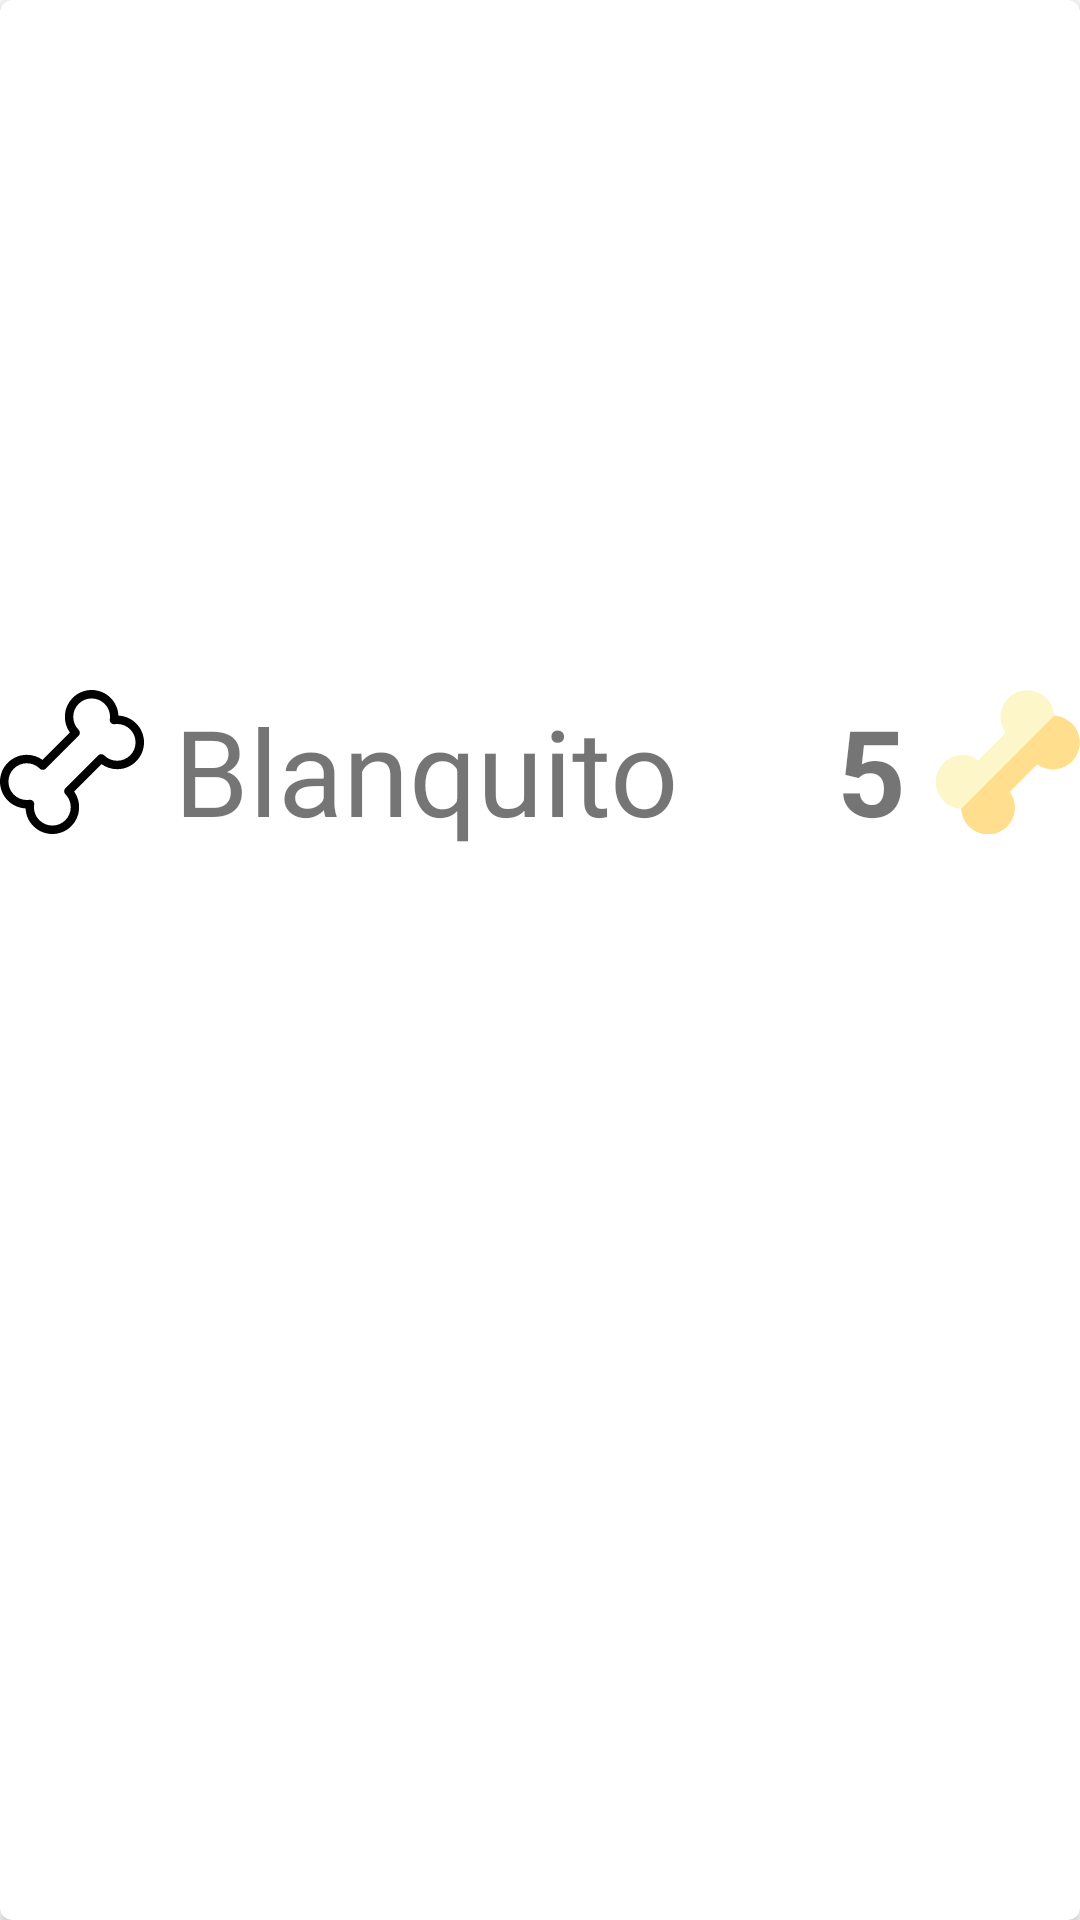

Icons on this 1080 × 1920 Android screen, each with its box as (x1, y1, x2, y2):
hueso: (0, 690, 144, 834)
huesoamarillo: (936, 690, 1080, 834)
